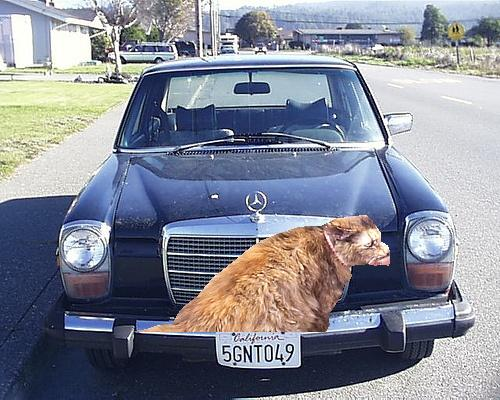tampered: (132, 216, 390, 332)
